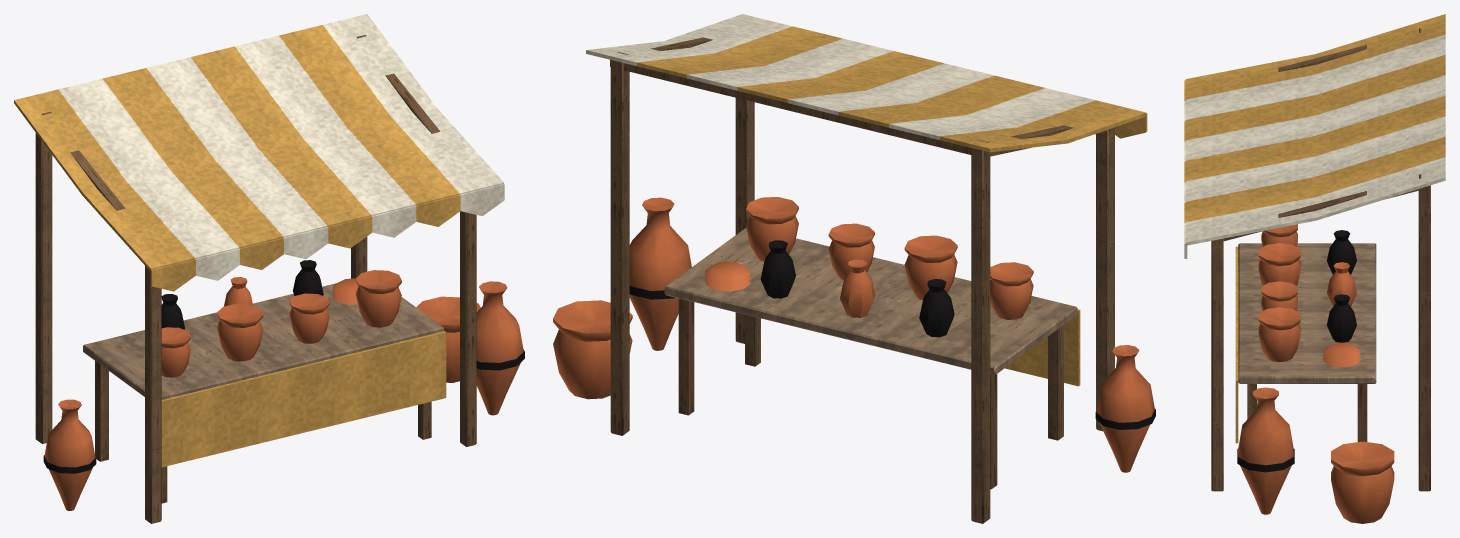
The model's file is biz_stall_t1_pottery.glb.
The picture shows the model from 3 angles, left to right: view 1: azimuth 30°, elevation 25°; view 2: azimuth 150°, elevation 25°; view 3: azimuth 270°, elevation 25°; orthographic projection. The views are drawn at different scales.
Visible parts, largest first — view 1: cloth_ochre, cloth_cream, terracotta, wood_dark, wood, black_glaze; view 2: wood_dark, terracotta, wood, cloth_ochre, cloth_cream, black_glaze; view 3: cloth_cream, cloth_ochre, terracotta, wood, wood_dark, black_glaze.
Part boxes in pixels (left/top/right/bottom): cloth_ochre: left=14, top=25, right=460, bottom=467; cloth_cream: left=58, top=14, right=504, bottom=280; terracotta: left=44, top=270, right=523, bottom=510; wood_dark: left=35, top=35, right=476, bottom=523; wood: left=83, top=283, right=443, bottom=399; black_glaze: left=43, top=260, right=524, bottom=473; wood_dark: left=610, top=37, right=1115, bottom=523; terracotta: left=553, top=197, right=1154, bottom=472; wood: left=664, top=228, right=1077, bottom=375; cloth_ochre: left=636, top=26, right=1147, bottom=386; cloth_cream: left=586, top=14, right=1095, bottom=139; black_glaze: left=629, top=240, right=1155, bottom=429; cloth_cream: left=1184, top=34, right=1445, bottom=258; cloth_ochre: left=1184, top=14, right=1445, bottom=443; terracotta: left=1238, top=224, right=1394, bottom=523; wood: left=1238, top=243, right=1376, bottom=383; wood_dark: left=1211, top=28, right=1430, bottom=491; black_glaze: left=1237, top=230, right=1356, bottom=472.
Bounding box in the file's own units: 3.77 × 2.56 × 1.89.
Materials: 6 (5 with a texture image).
